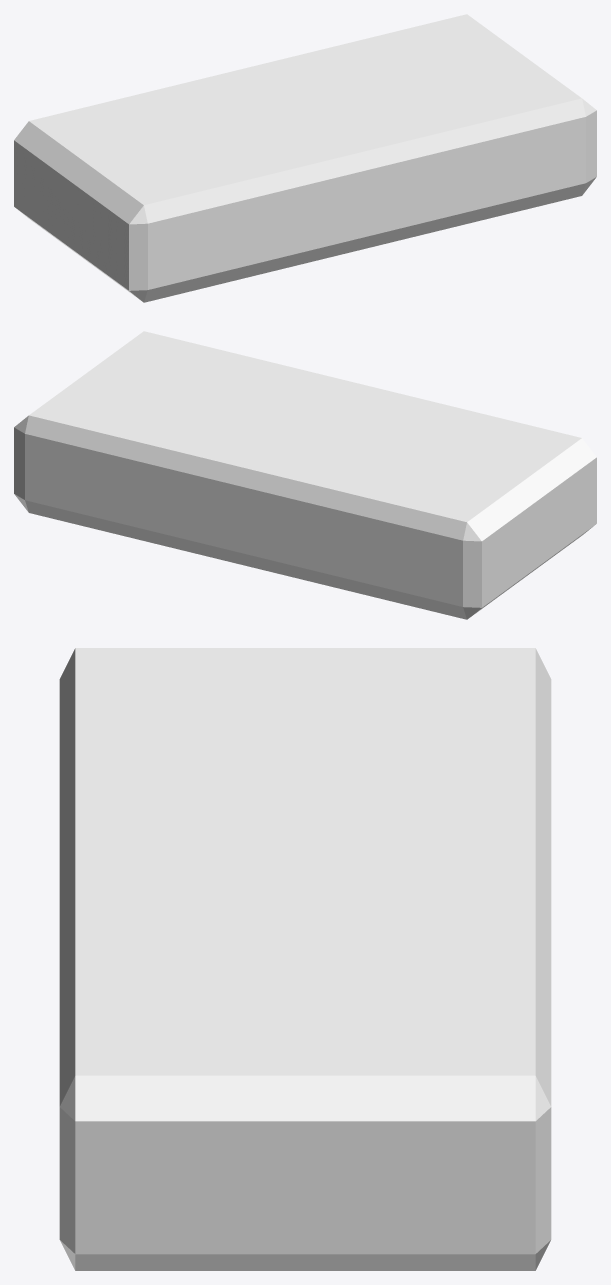
The model's file is PickUp_Skins_0_Default 1.fbx.
The picture shows the model from 3 angles, top to bottom: view 1: azimuth 30°, elevation 25°; view 2: azimuth 150°, elevation 25°; view 3: azimuth 270°, elevation 25°; orthographic projection. The views are drawn at different scales.
Parts seen in each view (by area): view 1: PickUp_Skin_0_Default; view 2: PickUp_Skin_0_Default; view 3: PickUp_Skin_0_Default.
Boxes of the visible parts, left/top/right/bottom form: PickUp_Skin_0_Default: left=14, top=14, right=596, bottom=302; PickUp_Skin_0_Default: left=14, top=331, right=596, bottom=619; PickUp_Skin_0_Default: left=59, top=648, right=551, bottom=1270.
Bounding box in the file's own units: 200 × 39.84 × 90.98.
